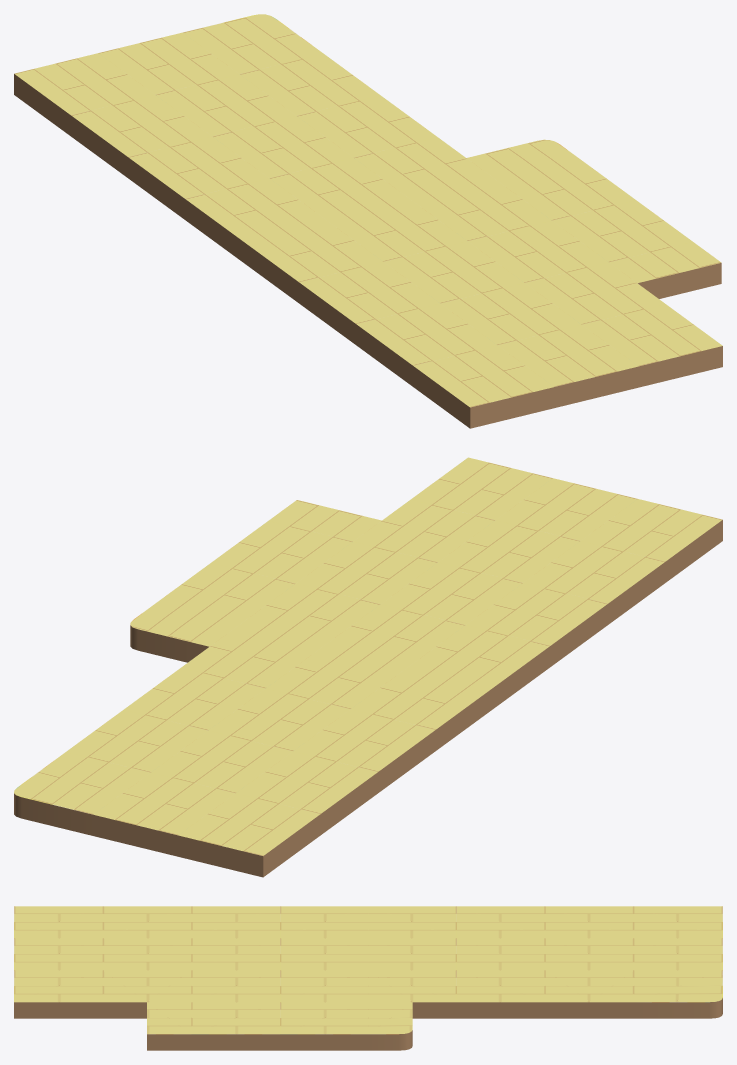
File: Floor_Wood.fbx
The picture shows the model from 3 angles, top to bottom: view 1: azimuth 30°, elevation 25°; view 2: azimuth 150°, elevation 25°; view 3: azimuth 270°, elevation 25°; orthographic projection. The views are drawn at different scales.
Visible parts, largest first — view 1: Floor_Wood; view 2: Floor_Wood; view 3: Floor_Wood.
Boxes of the visible parts, x1,y1,x2,y2 form: Floor_Wood: (14, 14, 722, 428); Floor_Wood: (14, 457, 722, 877); Floor_Wood: (14, 906, 722, 1050).
Size of the model in its own units: 394 by 23.62 by 923.
